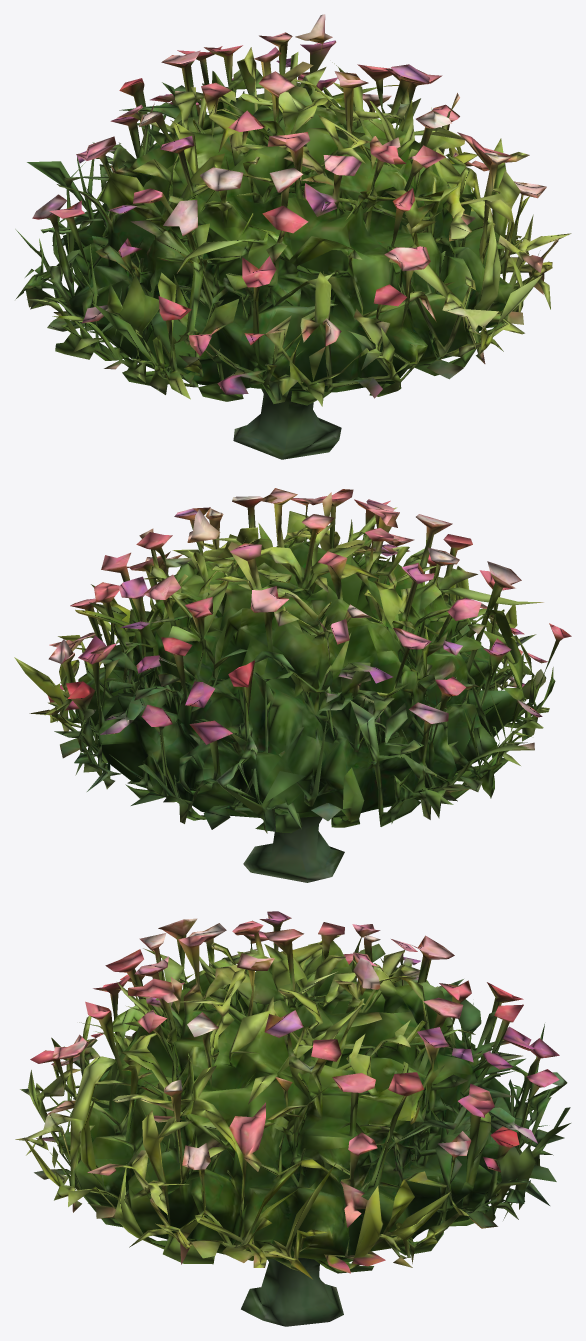
File: prop_flower_a.glb
The picture shows the model from 3 angles, top to bottom: view 1: azimuth 30°, elevation 25°; view 2: azimuth 150°, elevation 25°; view 3: azimuth 270°, elevation 25°; orthographic projection. The views are drawn at different scales.
Parts seen in each view (by area): view 1: tripo_node_69ead0a9-229a-40e7-9ebd-705c175e47d2; view 2: tripo_node_69ead0a9-229a-40e7-9ebd-705c175e47d2; view 3: tripo_node_69ead0a9-229a-40e7-9ebd-705c175e47d2.
Boxes of the visible parts, left/top/right/bottom form: tripo_node_69ead0a9-229a-40e7-9ebd-705c175e47d2: left=15, top=14, right=571, bottom=459; tripo_node_69ead0a9-229a-40e7-9ebd-705c175e47d2: left=14, top=488, right=571, bottom=882; tripo_node_69ead0a9-229a-40e7-9ebd-705c175e47d2: left=15, top=911, right=570, bottom=1326.
Bounding box in the file's own units: 0.9498 × 0.695 × 0.9244.
Materials: 1 (1 with a texture image).
